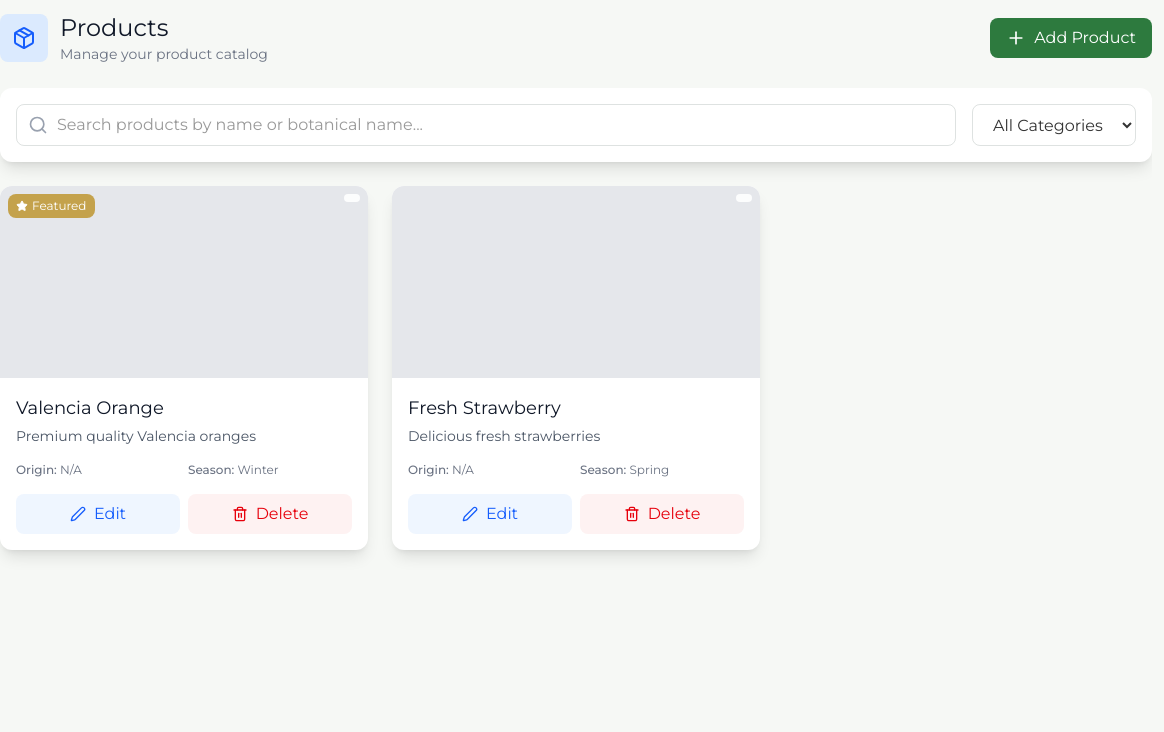
Test: AdminProducts › filters products by search term
Check: the heading "Valencia Orange" is shown, box [16, 397, 164, 419]
Type "Valencia" into the field with placeholder "Search products by name or botanical name..." at (486, 125), box [16, 104, 956, 146]
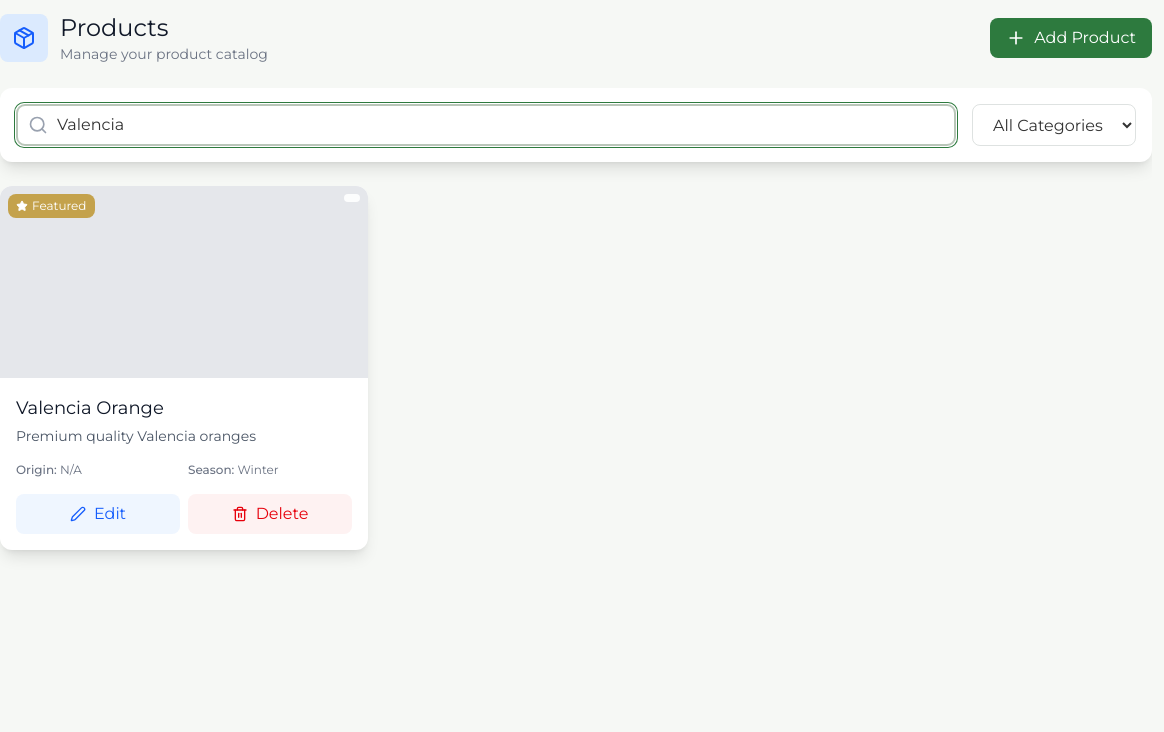
Check: the heading "Valencia Orange" is shown, box [16, 397, 164, 419]
Check: the heading "Fresh Strawberry" is gone
